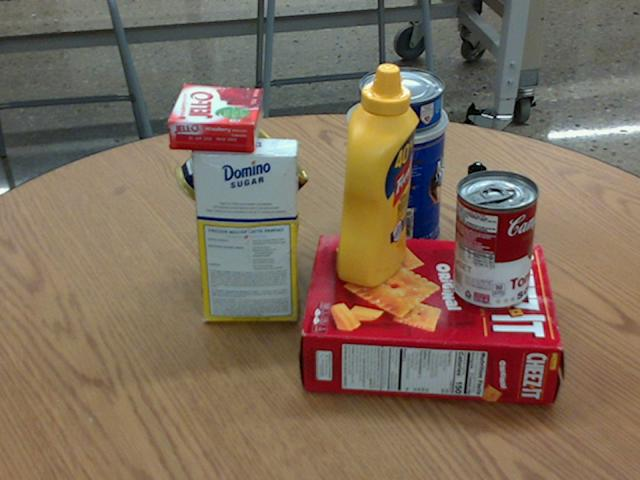cracker_box: (302, 233, 561, 404)
gelatin_box: (168, 84, 263, 150)
large_marker: (459, 162, 485, 272)
master_chef_can: (346, 95, 450, 257)
mug: (195, 177, 289, 286)
mustard_bottle: (336, 62, 418, 287)
potted_meat_can: (175, 111, 309, 240)
sugar_box: (190, 136, 298, 322)
tomato_soup_can: (454, 168, 539, 309)
tuna_fish_can: (360, 67, 445, 131)
